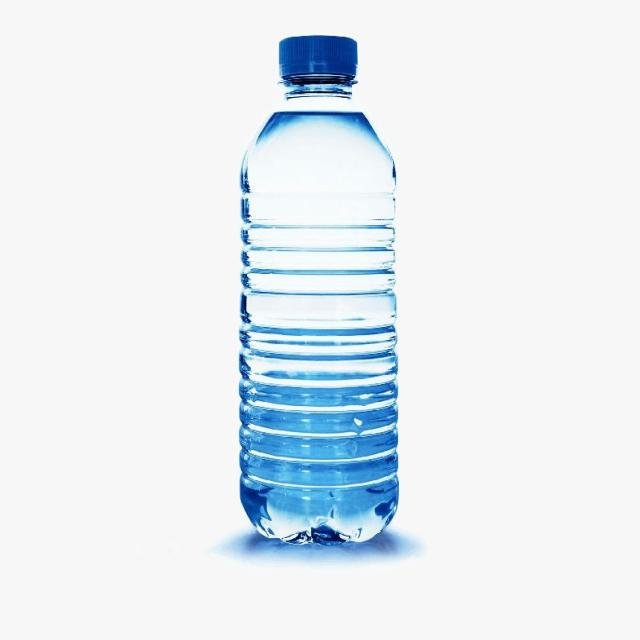bottle: (234, 31, 405, 549)
